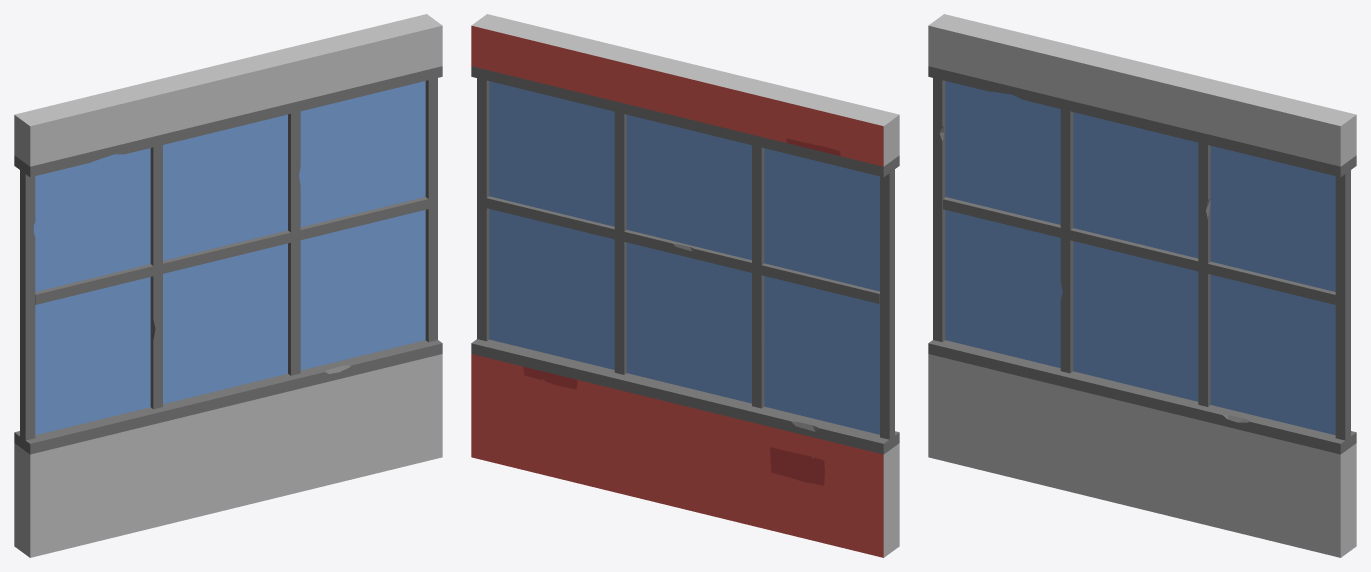
The model's file is Wh_Window_Warehouse.fbx.
3 views of the same model, side by side, from view 1: azimuth 30°, elevation 25°; view 2: azimuth 150°, elevation 25°; view 3: azimuth 330°, elevation 25° (orthographic).
Parts seen in each view (by area): view 1: Cube.770, Plane.423, Plane.438, Plane.433, Plane.428, Plane.448, Plane.443, Plane.424, Plane.449, Plane.429, Plane.434, Plane.444 (+19 smaller); view 2: Cube.770, Plane.423, Plane.428, Plane.433, Plane.438, Plane.443, Plane.448, Plane.424, Plane.449, Plane.429, Plane.434, Plane.444 (+19 smaller); view 3: Cube.770, Plane.438, Plane.433, Plane.423, Plane.428, Plane.448, Plane.443, Plane.424, Plane.449, Plane.429, Plane.434, Plane.444 (+19 smaller).
Part boxes in pixels (x1=…): Cube.770: x1=14, y1=14, x2=442, y2=557; Plane.423: x1=314, y1=234, x2=416, y2=344; Plane.438: x1=176, y1=134, x2=278, y2=245; Plane.433: x1=314, y1=101, x2=416, y2=211; Plane.428: x1=176, y1=268, x2=278, y2=378; Plane.448: x1=48, y1=299, x2=141, y2=409; Plane.443: x1=48, y1=166, x2=141, y2=276; Plane.424: x1=300, y1=236, x2=328, y2=370; Plane.449: x1=35, y1=301, x2=63, y2=435; Plane.429: x1=163, y1=270, x2=191, y2=403; Plane.434: x1=299, y1=106, x2=328, y2=226; Plane.444: x1=33, y1=171, x2=63, y2=291; Cube.770: x1=471, y1=14, x2=899, y2=557; Plane.423: x1=499, y1=233, x2=600, y2=344; Plane.428: x1=636, y1=267, x2=738, y2=377; Plane.433: x1=498, y1=100, x2=600, y2=210; Plane.438: x1=636, y1=134, x2=738, y2=244; Plane.443: x1=773, y1=165, x2=866, y2=275; Plane.448: x1=773, y1=298, x2=866, y2=408; Plane.424: x1=585, y1=235, x2=614, y2=369; Plane.449: x1=851, y1=300, x2=879, y2=434; Plane.429: x1=723, y1=269, x2=751, y2=403; Plane.434: x1=586, y1=106, x2=614, y2=226; Plane.444: x1=851, y1=171, x2=879, y2=291; Cube.770: x1=928, y1=14, x2=1356, y2=557; Plane.438: x1=1089, y1=126, x2=1191, y2=247; Plane.433: x1=1227, y1=159, x2=1329, y2=280; Plane.423: x1=1227, y1=292, x2=1328, y2=413; Plane.428: x1=1089, y1=259, x2=1191, y2=380; Plane.448: x1=961, y1=228, x2=1054, y2=349; Plane.443: x1=961, y1=94, x2=1054, y2=215; Plane.424: x1=1210, y1=274, x2=1241, y2=409; Plane.449: x1=945, y1=210, x2=976, y2=344; Plane.429: x1=1073, y1=241, x2=1104, y2=375; Plane.434: x1=1210, y1=146, x2=1241, y2=266; Plane.444: x1=945, y1=81, x2=976, y2=201.
Bounding box in the file's own units: 300 × 300 × 20.
